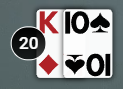10: (62, 8, 91, 37)
k: (34, 8, 62, 37)
